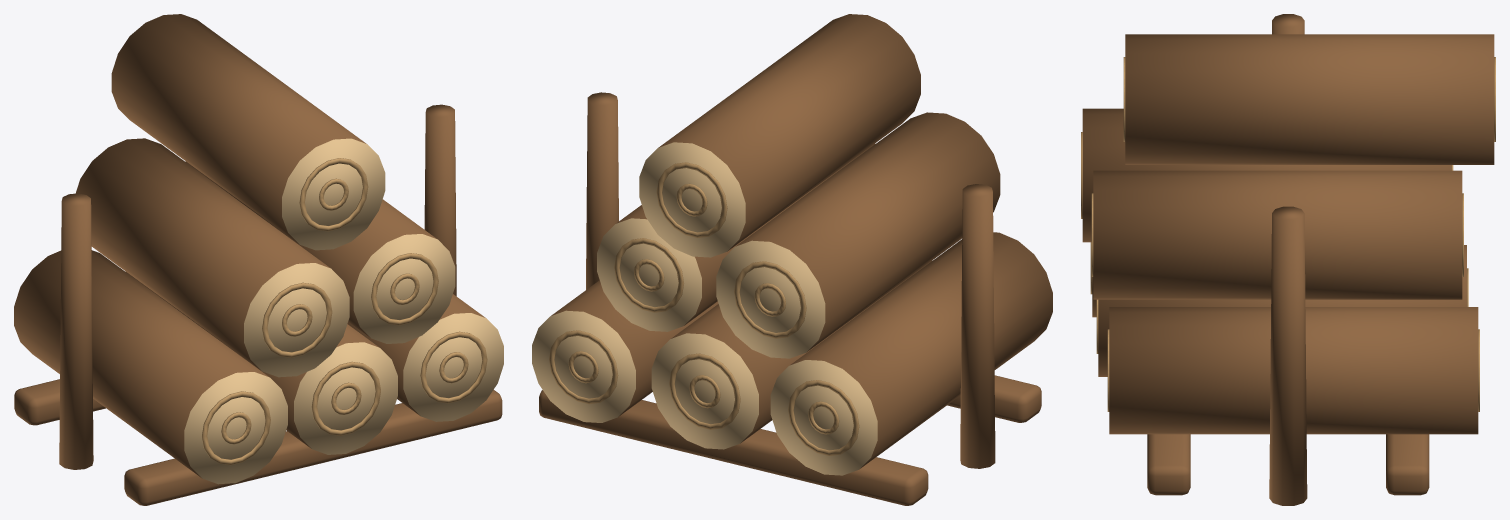
File: woodpile.glb
3 views of the same model, side by side, from view 1: azimuth 30°, elevation 25°; view 2: azimuth 150°, elevation 25°; view 3: azimuth 270°, elevation 25° (orthographic). The views are drawn at different scales.
Visible parts, largest first — view 1: pile; view 2: pile; view 3: pile.
Part boxes in pixels (x1=…): pile: x1=14, y1=14, x2=503, y2=505; pile: x1=532, y1=14, x2=1052, y2=505; pile: x1=1081, y1=14, x2=1495, y2=505.
Bounding box in the file's own units: 0.9066 × 0.736 × 0.7646.
